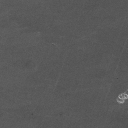corrosion: (116, 91, 128, 105)
